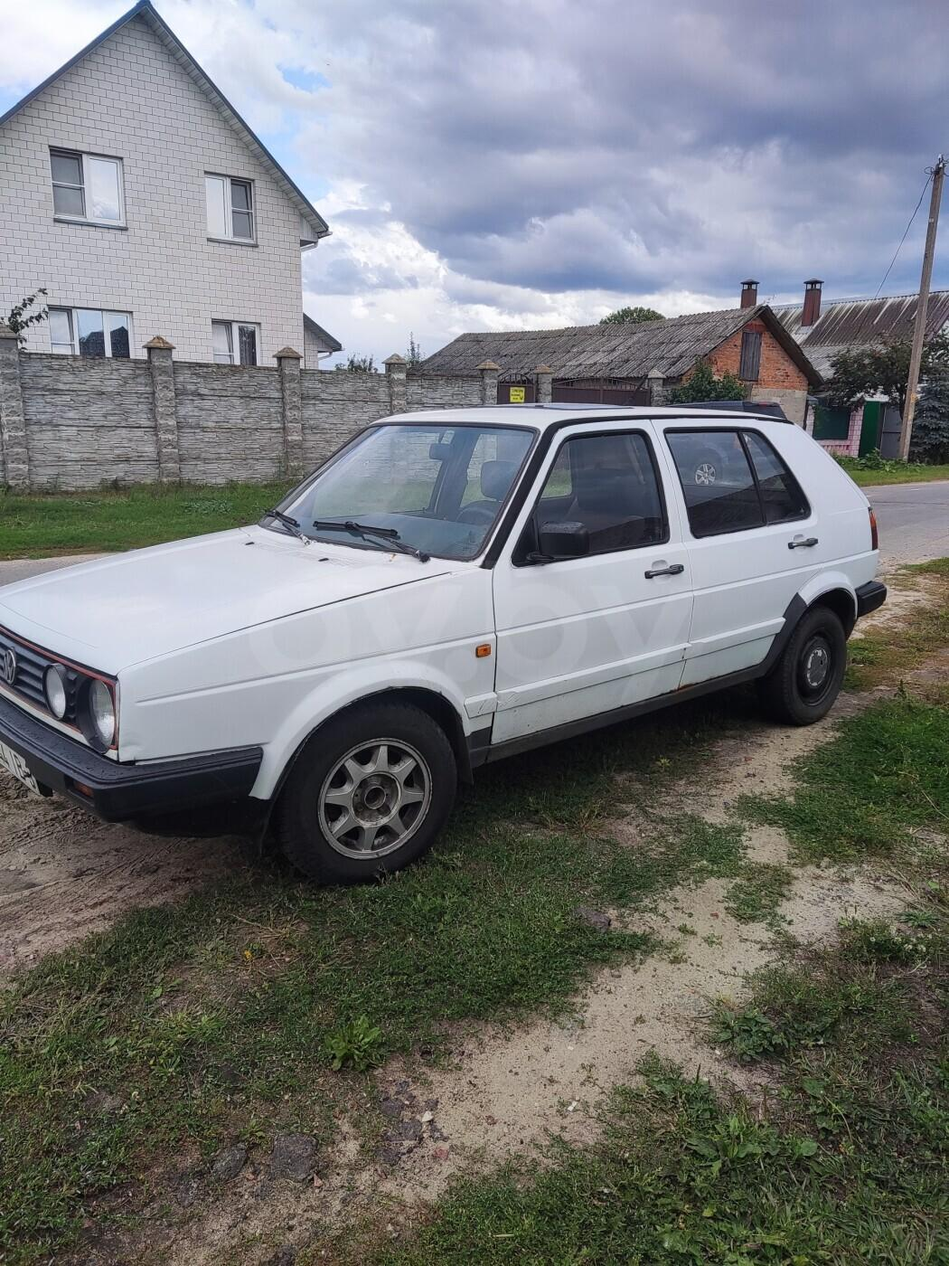Golf_1983-1992: (0, 396, 891, 877)
